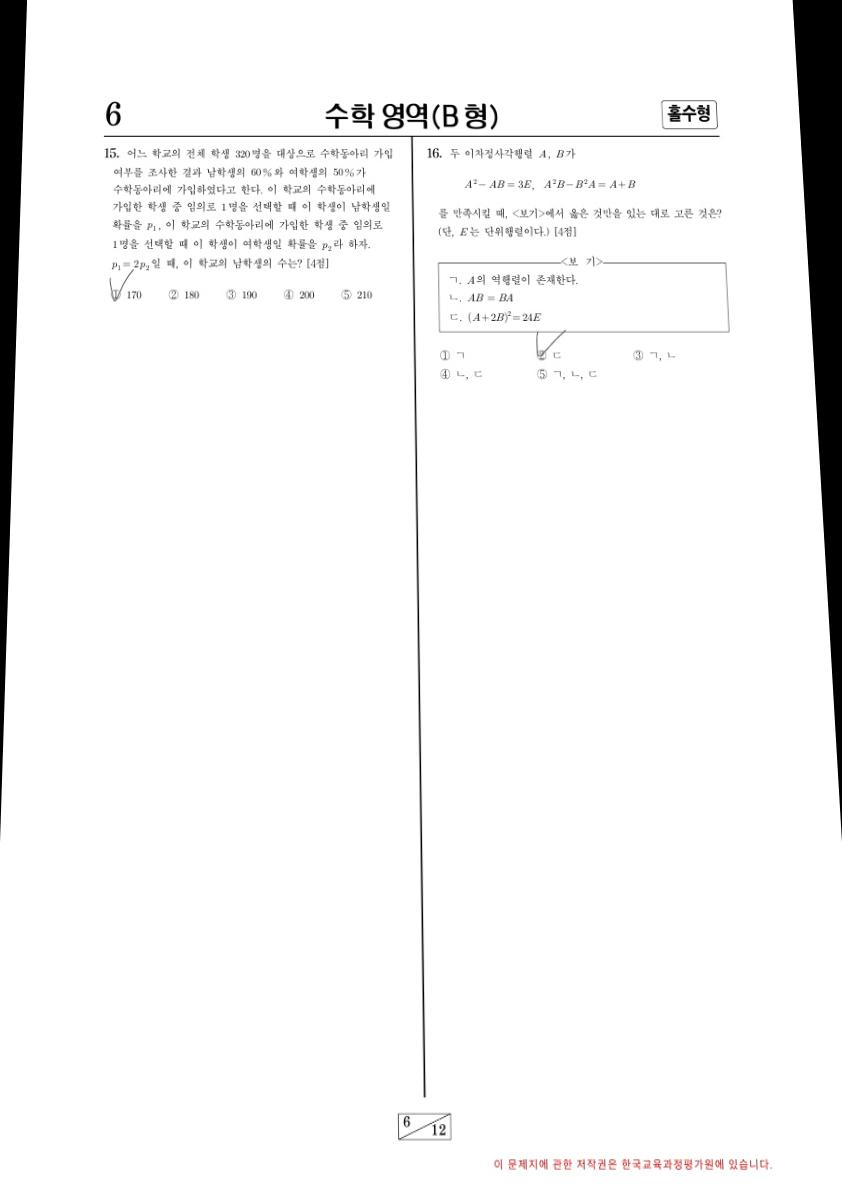question: (416, 139, 745, 394), (88, 138, 401, 320)
